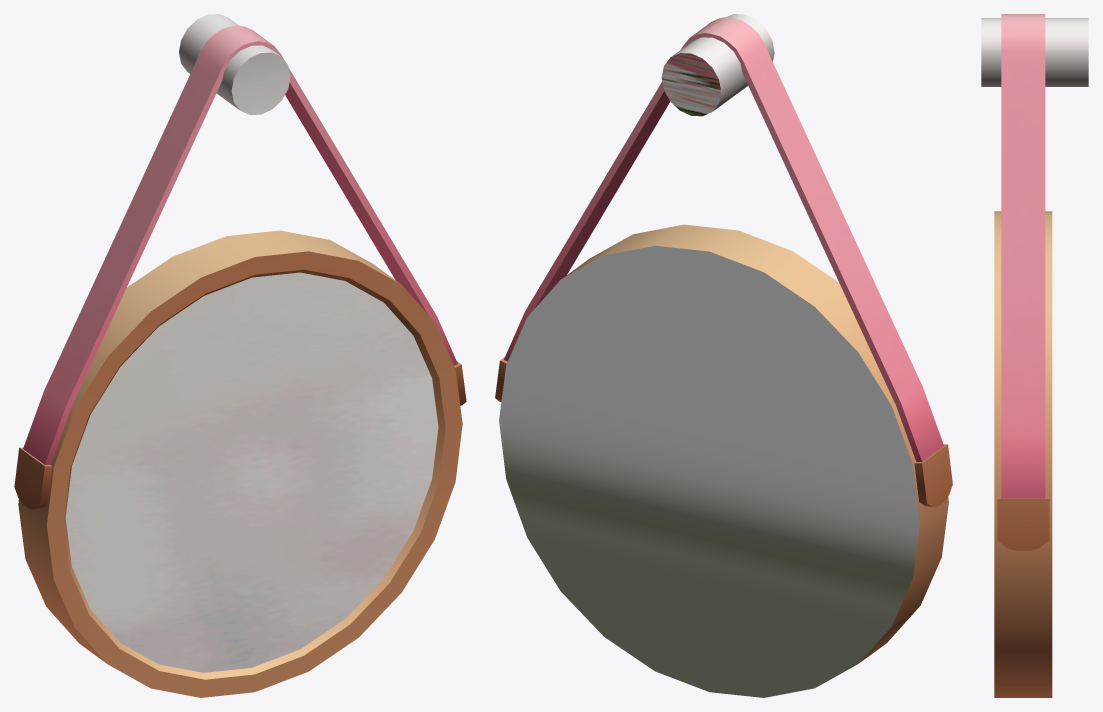
The model's file is Doll_OB_Frame_006.FBX.
3 renders of one model, left to right at view 1: azimuth 30°, elevation 25°; view 2: azimuth 150°, elevation 25°; view 3: azimuth 270°, elevation 25°, orthographic.
Visible parts, largest first — view 1: Doll_OB_Frame_006; view 2: Doll_OB_Frame_006; view 3: Doll_OB_Frame_006.
Part boxes in pixels (<box>): Doll_OB_Frame_006: <box>14,14,466,697</box>; Doll_OB_Frame_006: <box>495,14,952,697</box>; Doll_OB_Frame_006: <box>981,14,1088,697</box>.
Size of the model in its own units: 27.77 by 40.03 by 5.91.
